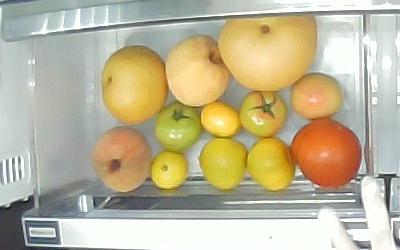peach: (164, 33, 228, 106), (92, 126, 152, 193)
pear: (219, 13, 315, 92), (100, 44, 168, 125)
tangerine: (246, 136, 293, 191), (200, 137, 247, 189), (149, 151, 189, 189), (200, 101, 240, 137)
tomato: (290, 117, 363, 190), (154, 101, 201, 152), (238, 88, 285, 139), (291, 73, 343, 119)
